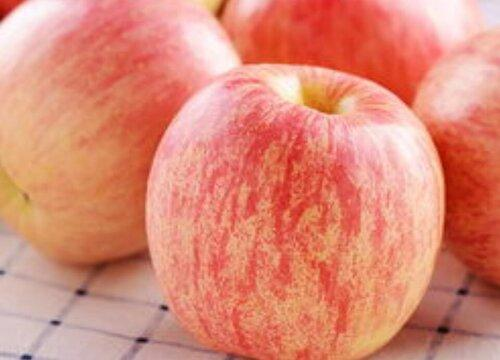apple: (145, 63, 447, 360), (2, 1, 234, 260), (414, 21, 500, 285), (222, 1, 452, 99)
